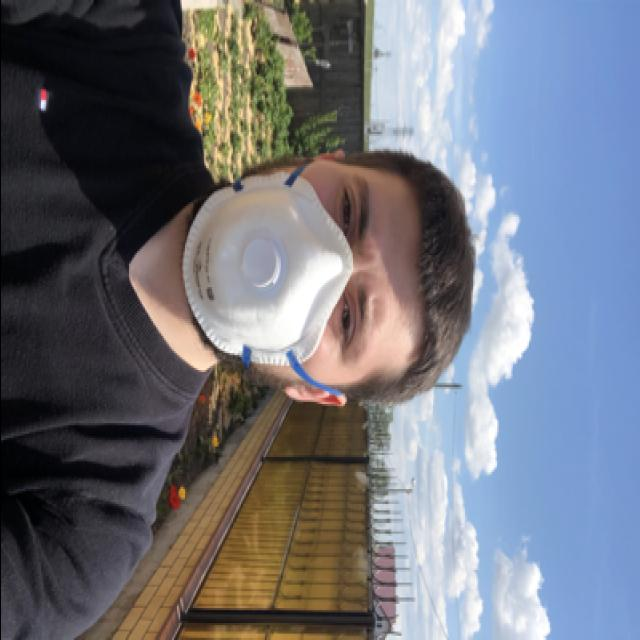with_mask: (181, 162, 387, 378)
